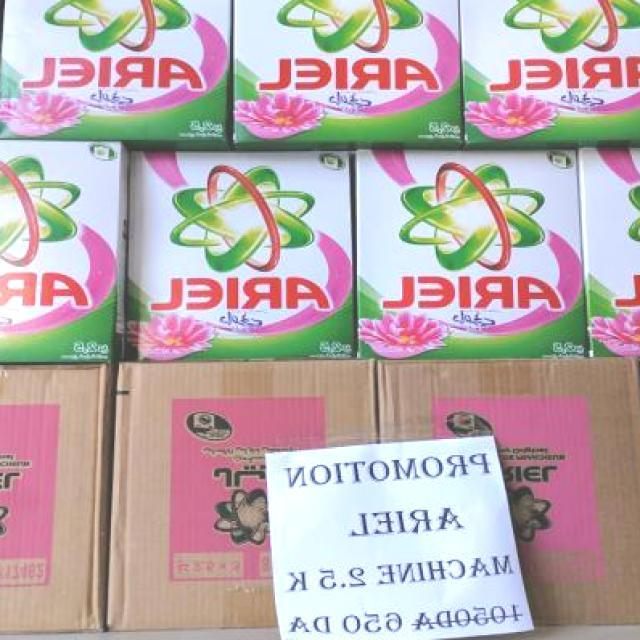Detergent: (349, 138, 582, 356), (120, 146, 354, 362), (232, 0, 464, 151), (0, 0, 232, 143), (0, 138, 127, 368), (463, 0, 640, 143)
